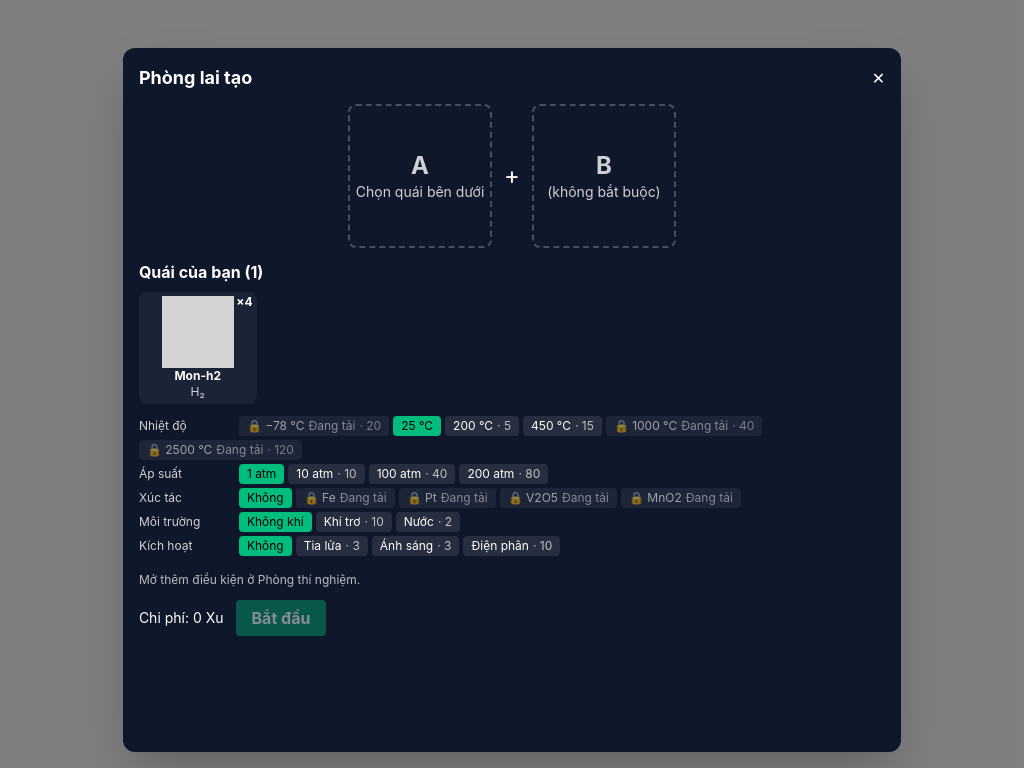
Test: while labs are loading, gated values are locked and default conditions can start
Expected: the button "1000 °C" is disabled, [606,416,762,436]
Expected: the button "Fe" is disabled, [296,488,395,508]
Click the button with test id "pick-h2": click(198, 348) [139,292,257,404]
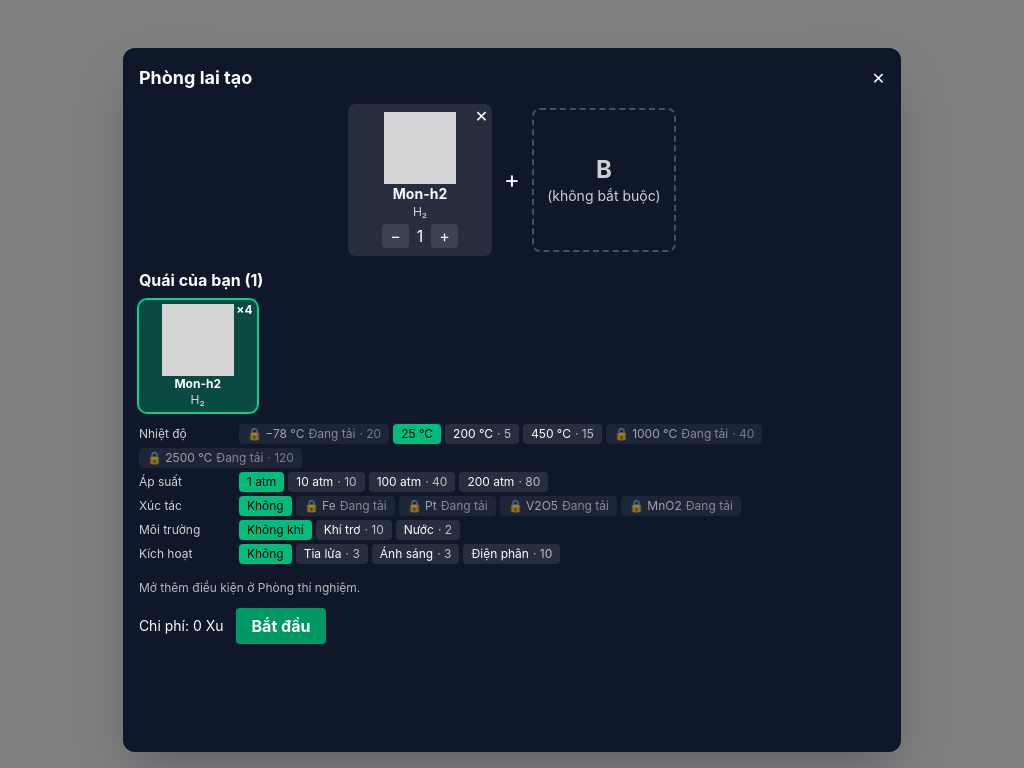
Result: the button "Bắt đầu" is enabled at [236,608,326,644]
